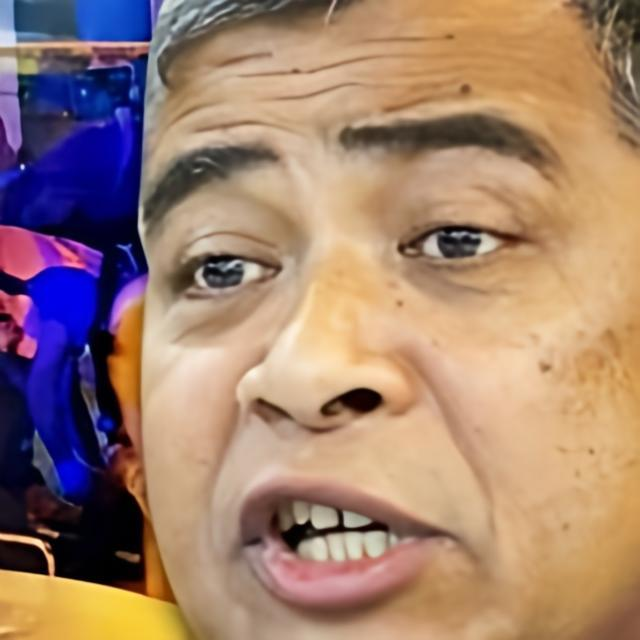surprise: (136, 1, 640, 640)
